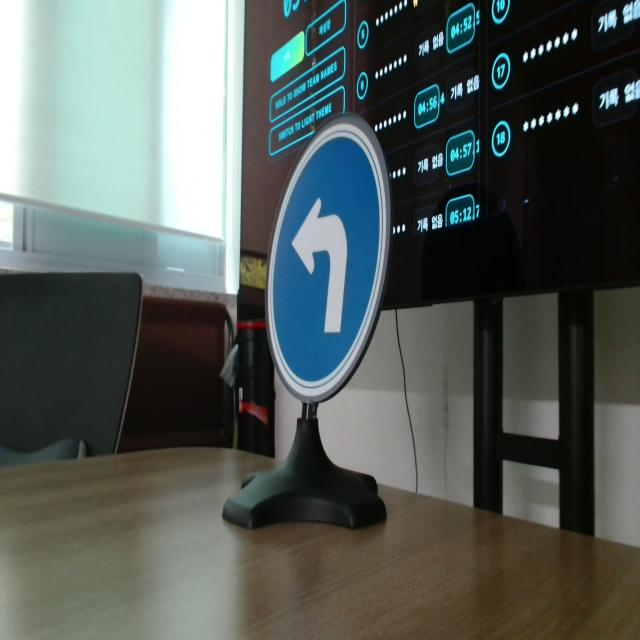left_direction: (262, 112, 390, 403)
